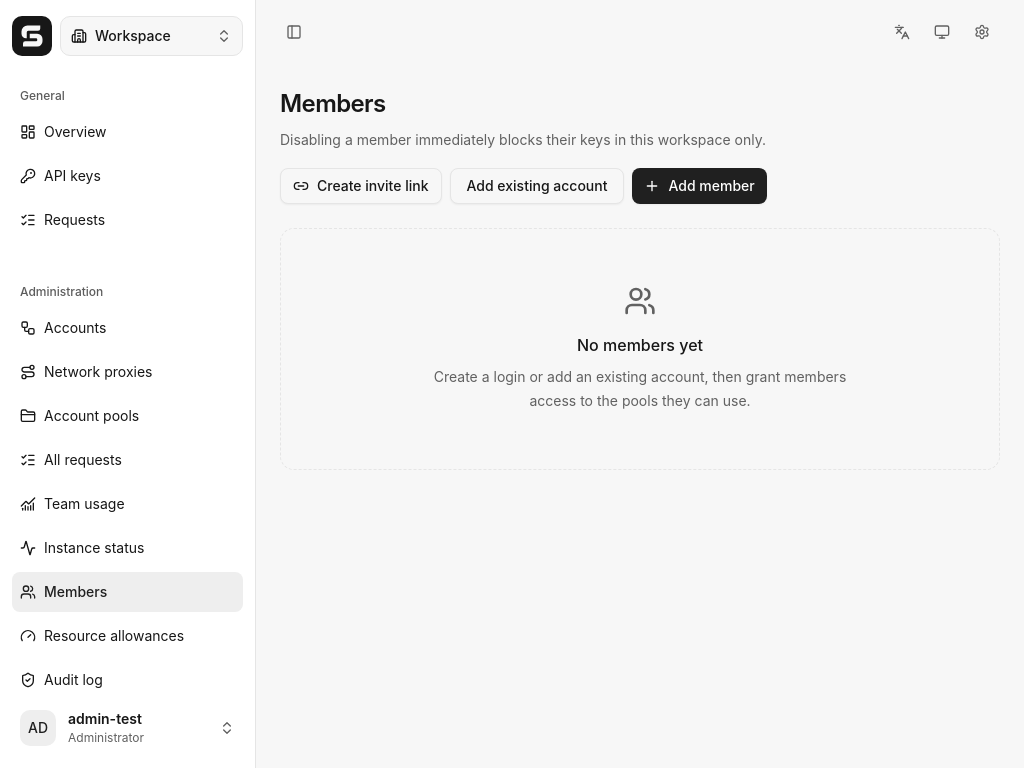
Test: creates a one-time invitation link for the selected workspace
Click the button "Create invite link" at [361, 186], box [280,168,442,204]
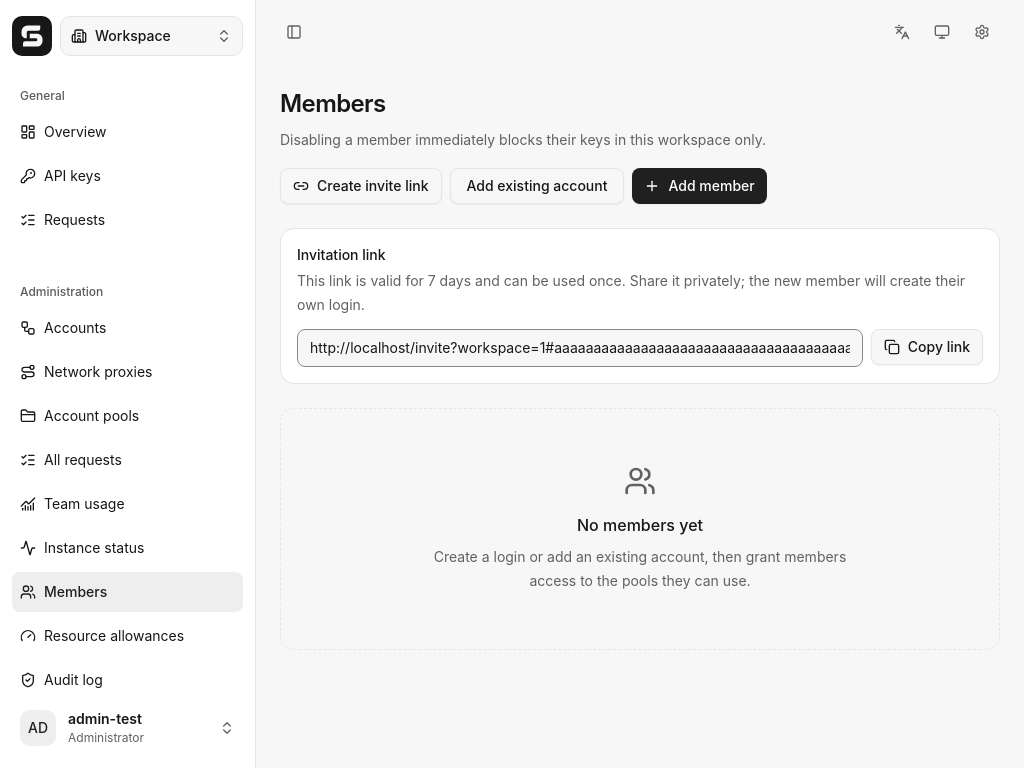
Result: the text "valid for 7 days" is shown at [297,272,965,313]
